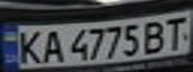4: (66, 25, 90, 62)
5: (121, 20, 145, 57)
7: (103, 22, 127, 60), (84, 25, 109, 61)
A: (39, 27, 66, 64)
B: (139, 17, 172, 54)
K: (12, 27, 48, 65)
T: (160, 13, 190, 51)
